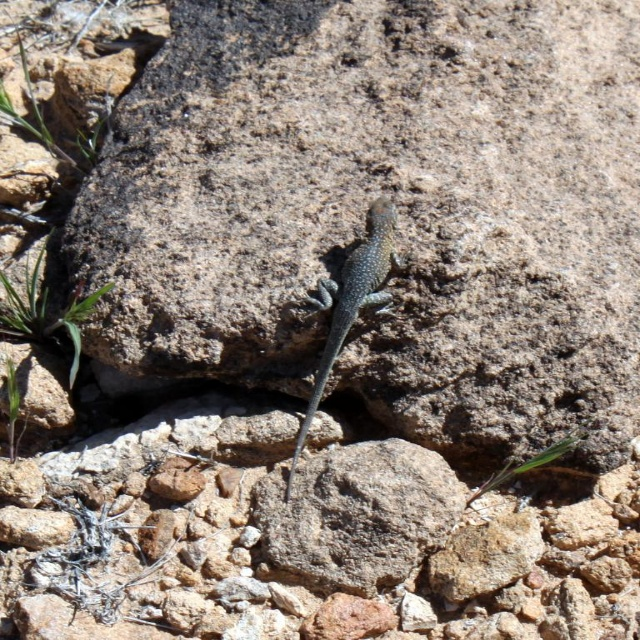Lizard: (272, 192, 412, 476)
